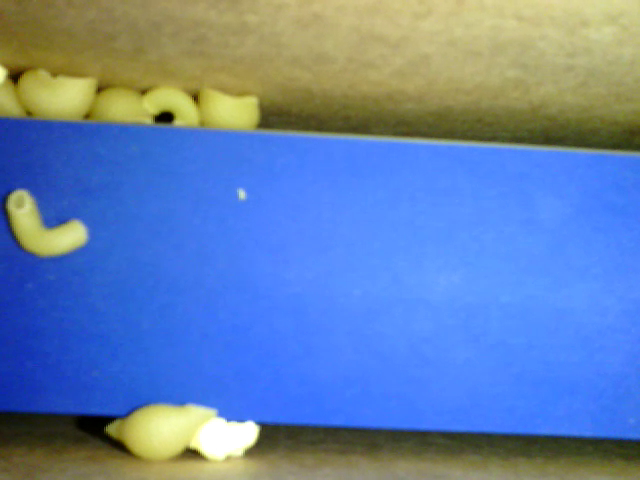elbow: (4, 188, 88, 257), (141, 84, 201, 128)
shell: (105, 401, 216, 460), (17, 68, 96, 119), (197, 84, 260, 131), (88, 87, 157, 125)
